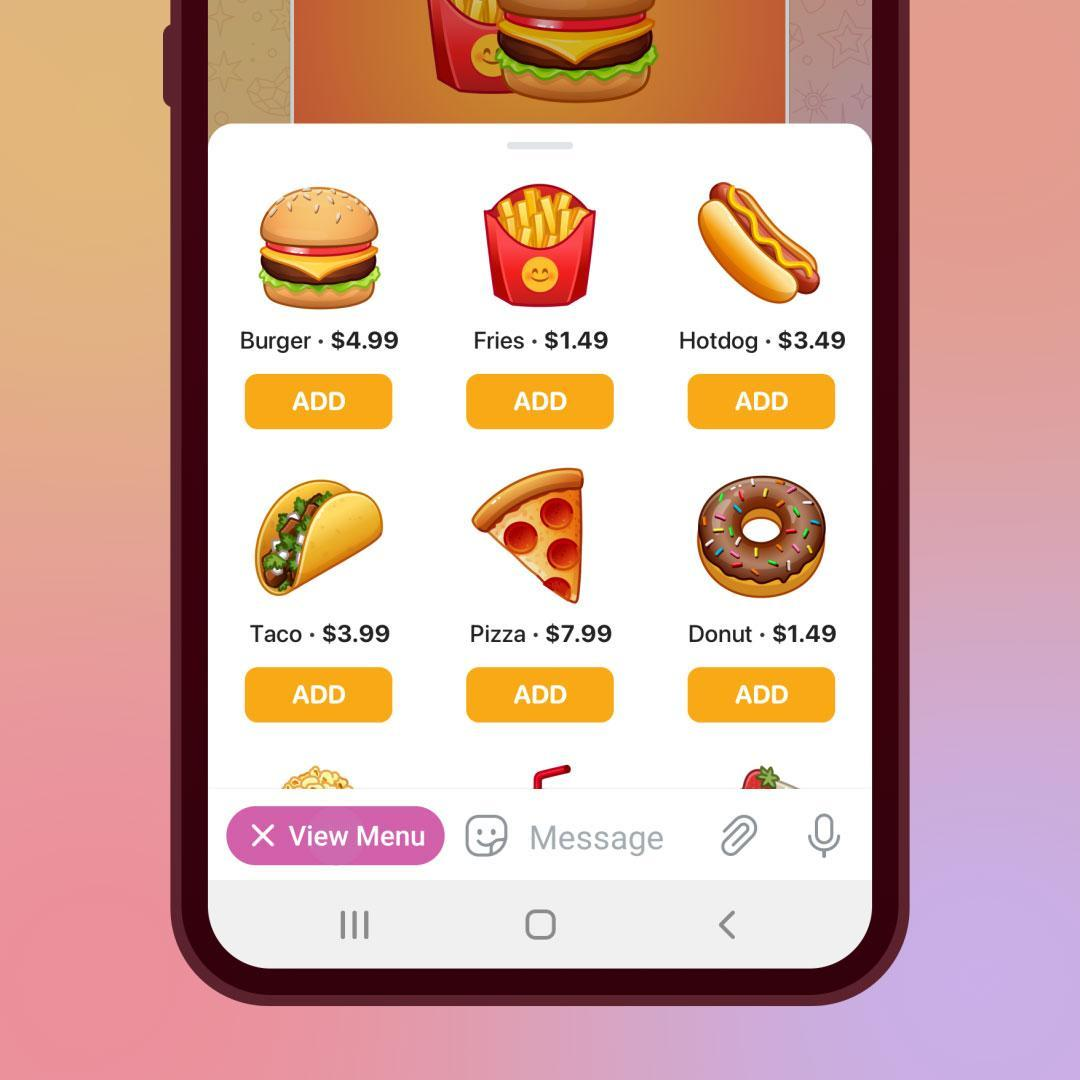button: (231, 802, 451, 871), (462, 367, 621, 437), (464, 662, 616, 729), (684, 368, 841, 432), (246, 369, 396, 434), (686, 666, 840, 729), (247, 665, 397, 726)
icon: (459, 811, 513, 865), (708, 815, 766, 865), (803, 815, 849, 863)
label: (524, 816, 668, 859)
